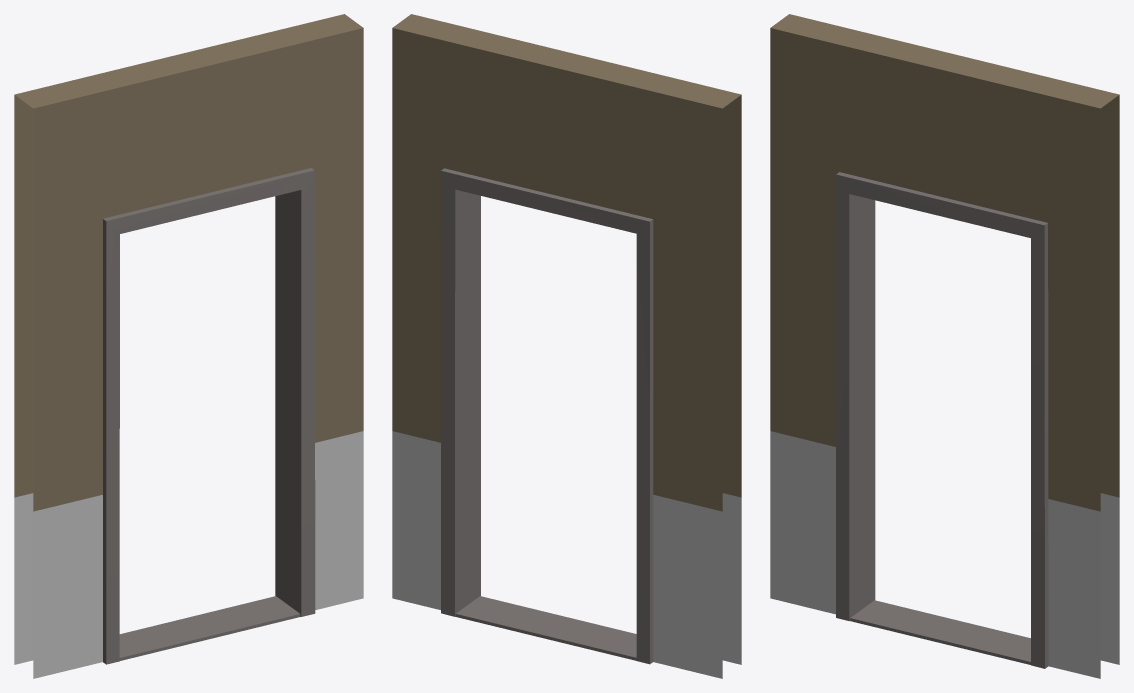
The model's file is SM_DoorFrame_A2_200.FBX.
3 views of the same model, side by side, from view 1: azimuth 30°, elevation 25°; view 2: azimuth 150°, elevation 25°; view 3: azimuth 330°, elevation 25° (orthographic).
Visible parts, largest first — view 1: SM_DoorFrame_A2_200; view 2: SM_DoorFrame_A2_200; view 3: SM_DoorFrame_A2_200.
Part boxes in pixels (box(x1,y1,x2,y2)): SM_DoorFrame_A2_200: box(14, 14, 363, 678); SM_DoorFrame_A2_200: box(392, 14, 741, 678); SM_DoorFrame_A2_200: box(770, 14, 1119, 678).
Size of the model in its own units: 200 by 27.36 by 330.
